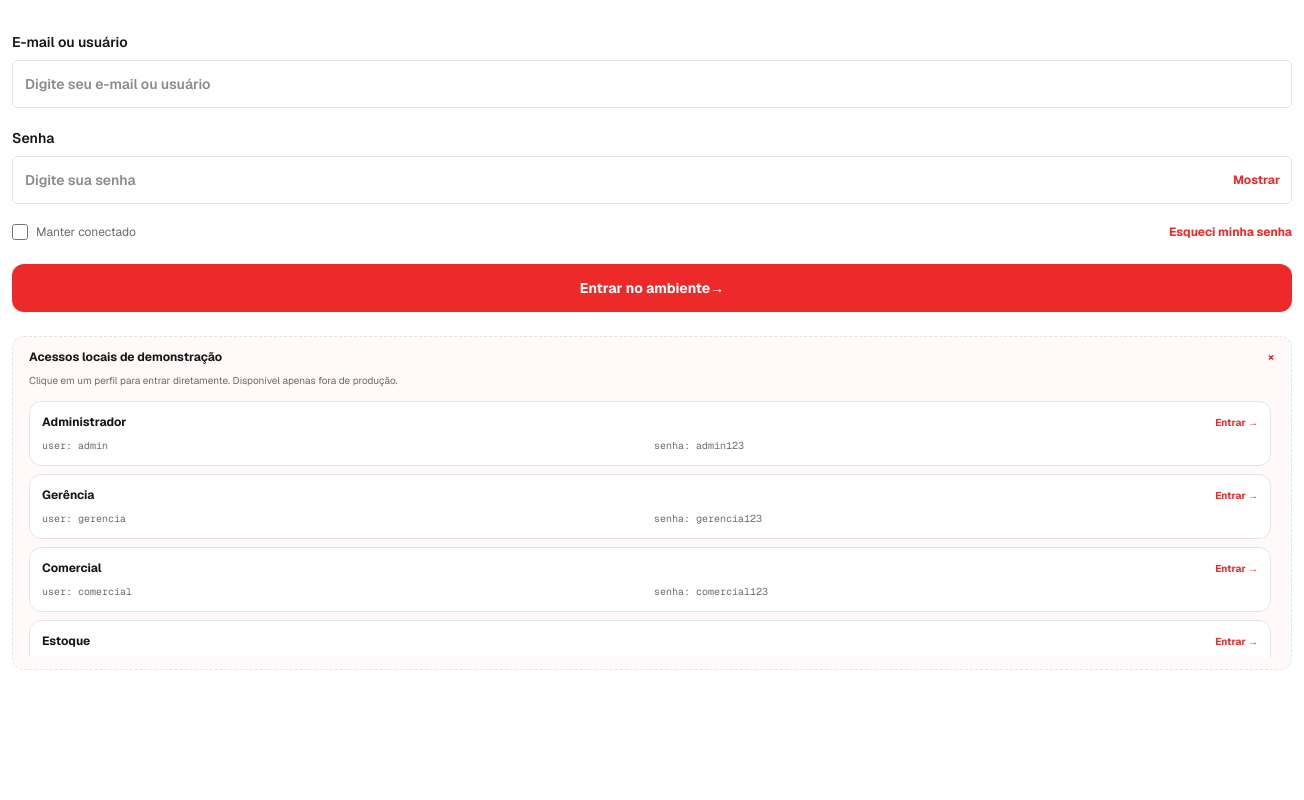
Test case: LoginForm › toggles password visibility
Click the button with aria-label "Mostrar senha". click: click(1256, 180)
box: [1233,172,1280,188]
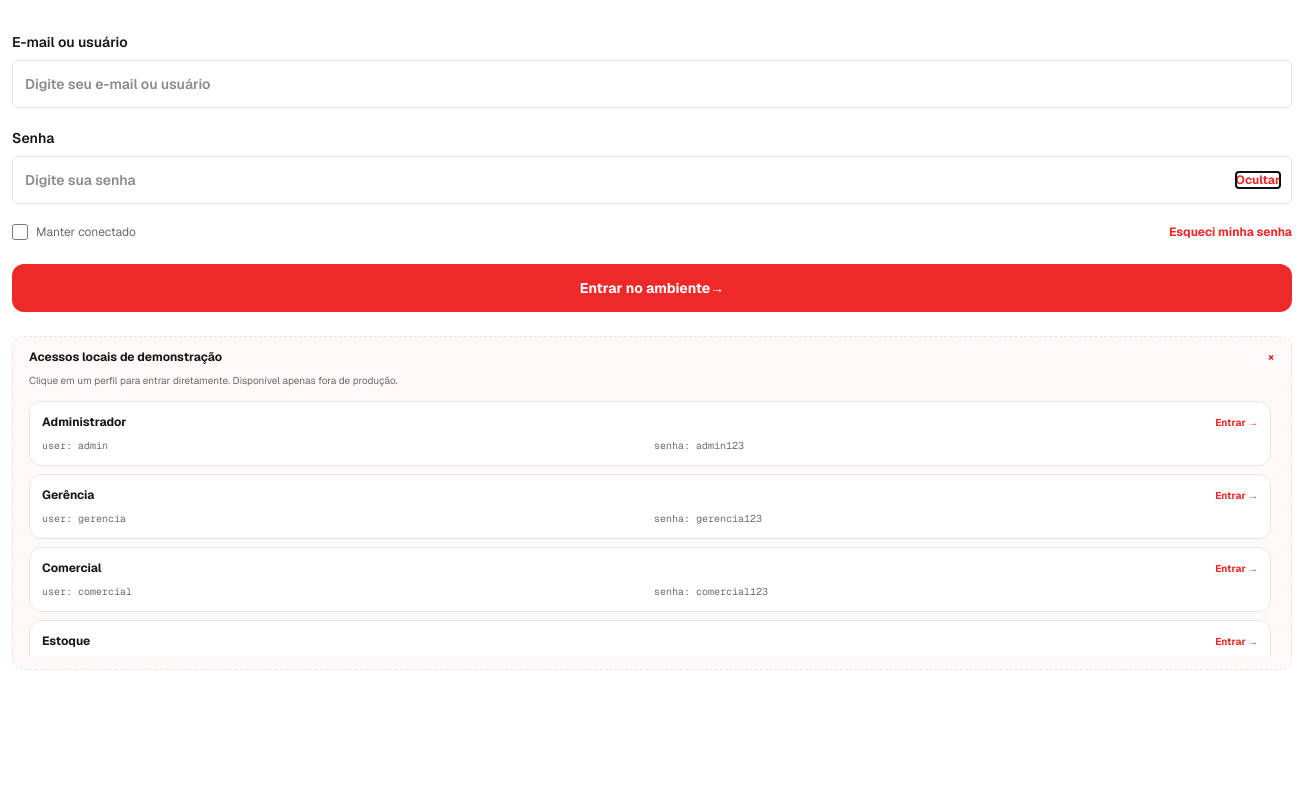
expect the button with aria-label "Ocultar senha" is shown: met, box [1236,172,1280,188]
